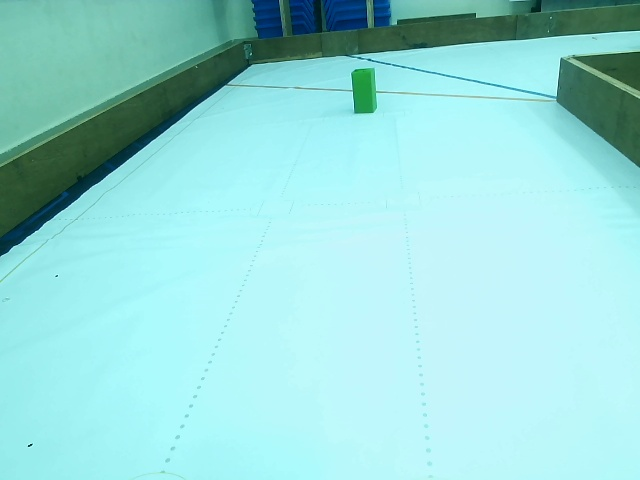green: (354, 68, 375, 112)
